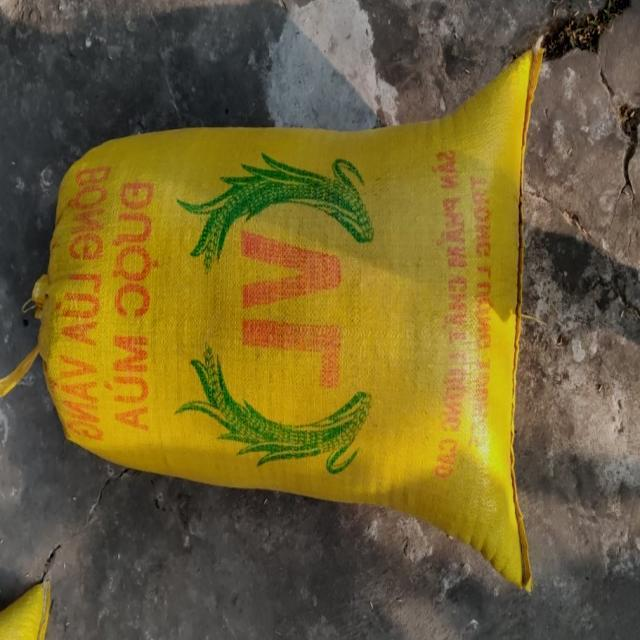gunny_bag: (0, 48, 543, 590)
